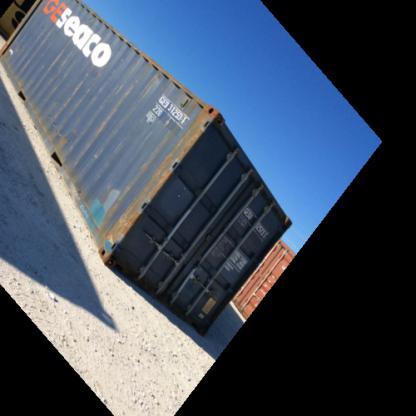Damage: (153, 102, 215, 201), (99, 165, 149, 240), (78, 81, 130, 148), (42, 28, 76, 81), (41, 113, 71, 146), (138, 60, 162, 98)
